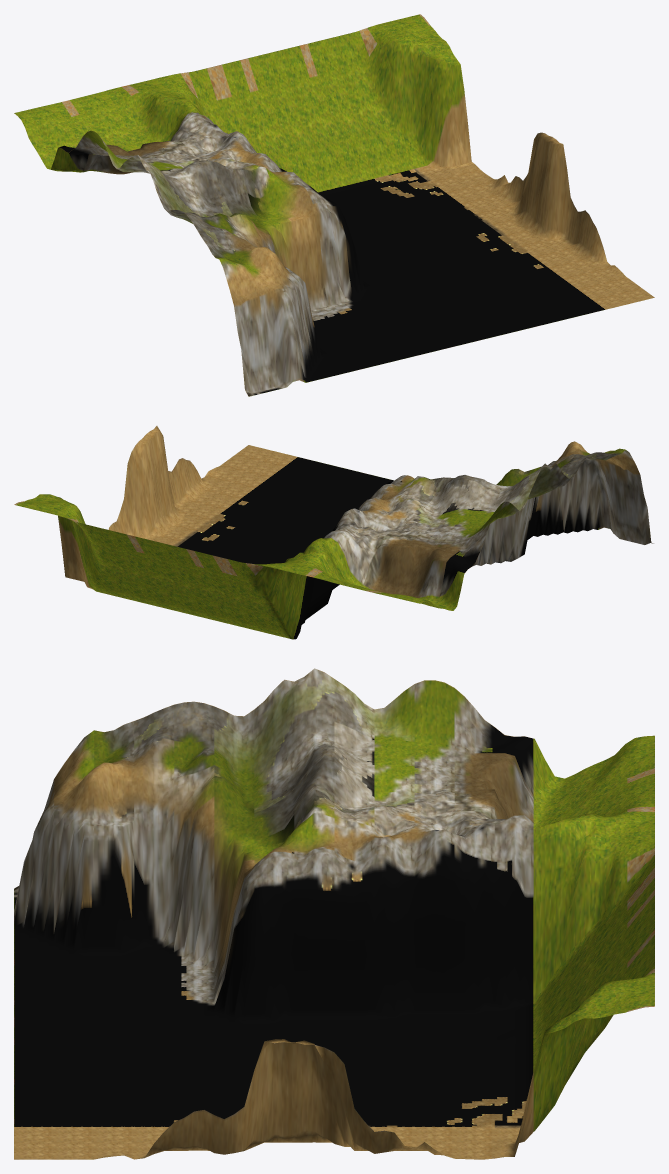
The model's file is terrain.glb.
The picture shows the model from 3 angles, top to bottom: view 1: azimuth 30°, elevation 25°; view 2: azimuth 150°, elevation 25°; view 3: azimuth 270°, elevation 25°; orthographic projection. The views are drawn at different scales.
Parts seen in each view (by area): view 1: terrain_4_3; view 2: terrain_4_3; view 3: terrain_4_3.
Boxes of the visible parts, x1,y1,x2,y2 form: terrain_4_3: [14, 14, 654, 396]; terrain_4_3: [14, 426, 653, 639]; terrain_4_3: [14, 668, 654, 1159].
Size of the model in its own units: 512 by 194 by 512.
1 material, 1 textured.
